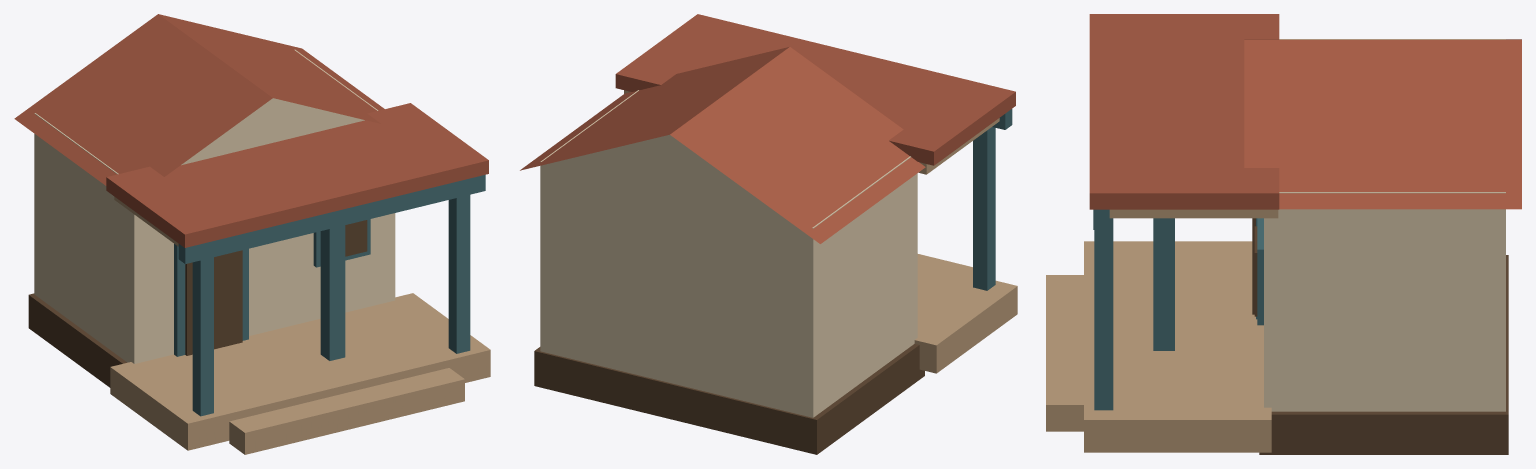
File: porch.glb
The picture shows the model from 3 angles, left to right: view 1: azimuth 30°, elevation 25°; view 2: azimuth 150°, elevation 25°; view 3: azimuth 270°, elevation 25°; orthographic projection. The views are drawn at different scales.
Parts seen in each view (by area): view 1: Workshop porch; view 2: Workshop porch; view 3: Workshop porch.
Boxes of the visible parts, x1,y1,x2,y2 form: Workshop porch: (14,14,490,454); Workshop porch: (520,14,1017,454); Workshop porch: (1046,14,1521,454).
Bounding box in the file's own units: 4.48 × 3.9 × 5.02.
